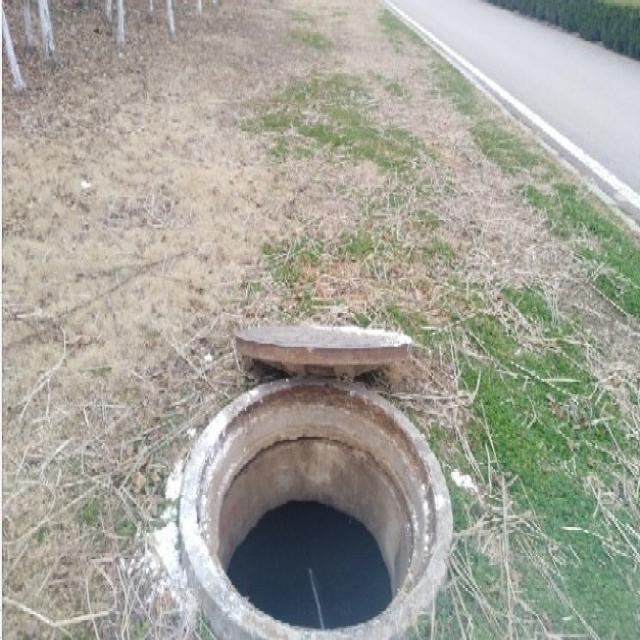Faulty: (180, 322, 452, 638)
